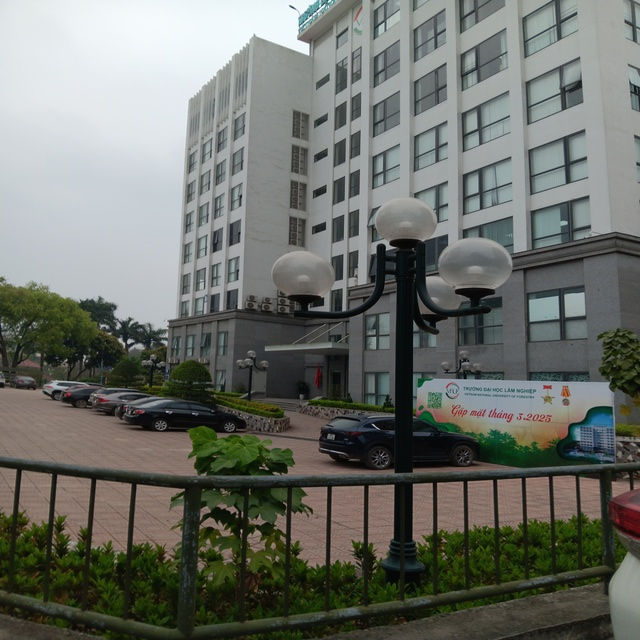cotden: (279, 177, 499, 571), (233, 343, 268, 410), (436, 343, 487, 385), (140, 350, 172, 394)
